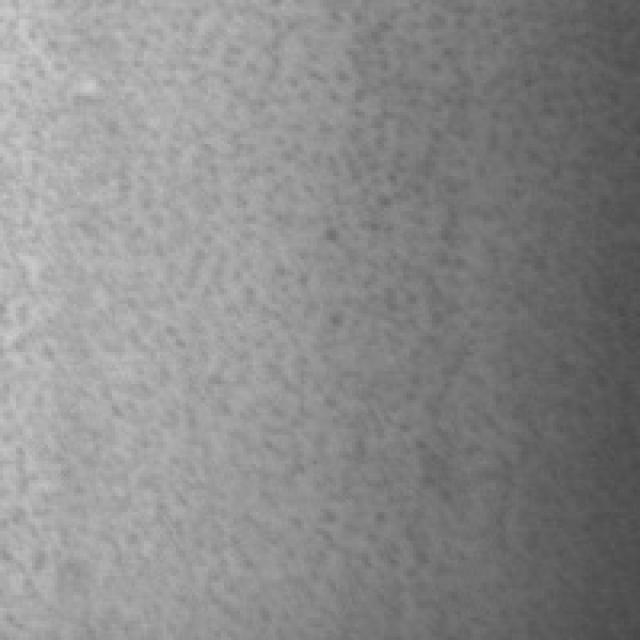pitted_surface: (0, 0, 374, 627), (282, 0, 636, 592)
